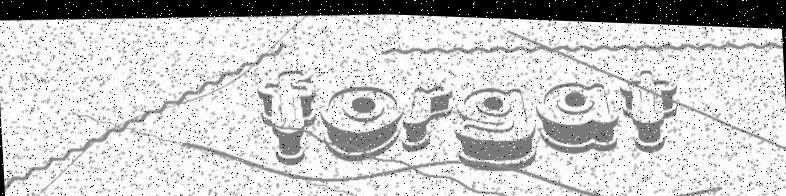a: (535, 75, 621, 153)
f: (257, 66, 318, 166)
g: (453, 82, 539, 170)
o: (320, 80, 404, 161)
r: (401, 80, 456, 151)
t: (622, 63, 681, 150)
